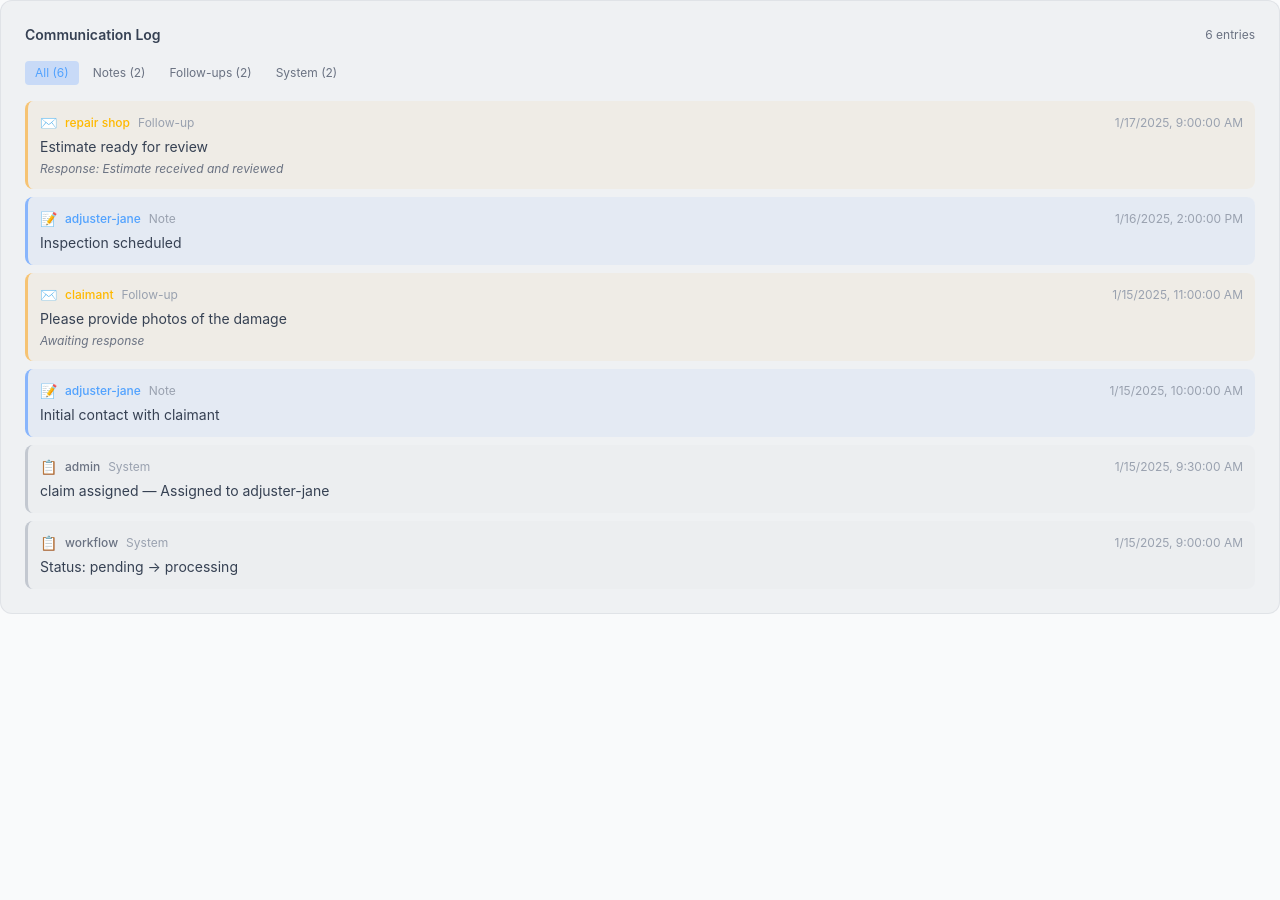
Test: CommunicationLog › filters by follow-ups
Click the button "Follow-ups (2)". click: (211, 73)
box: [160,61,262,85]
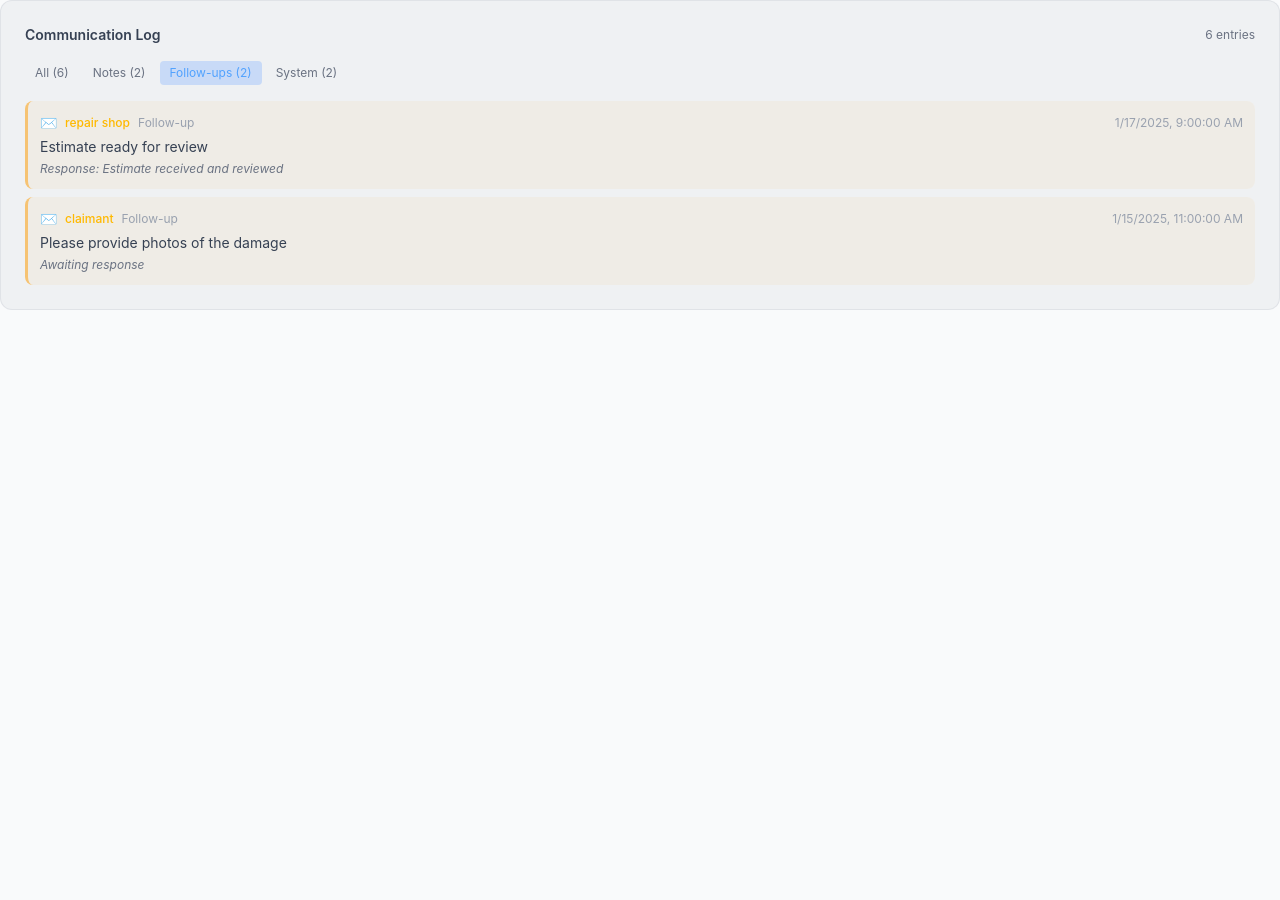
Expected: the text "Please provide photos of the damage" is shown, [40,234,287,251]
Now the text "Initial contact with claimant" is gone
